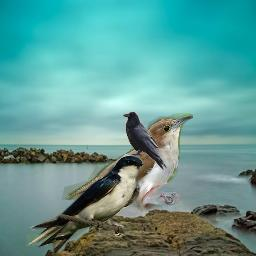Crow: (122, 111, 167, 170)
Cuckoo: (26, 113, 193, 246)
Swallow: (30, 155, 144, 254)
